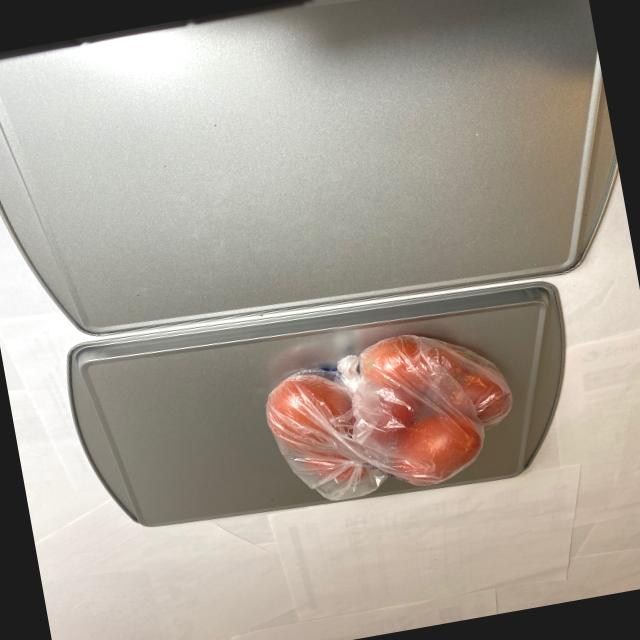tomato: (260, 318, 526, 505)
